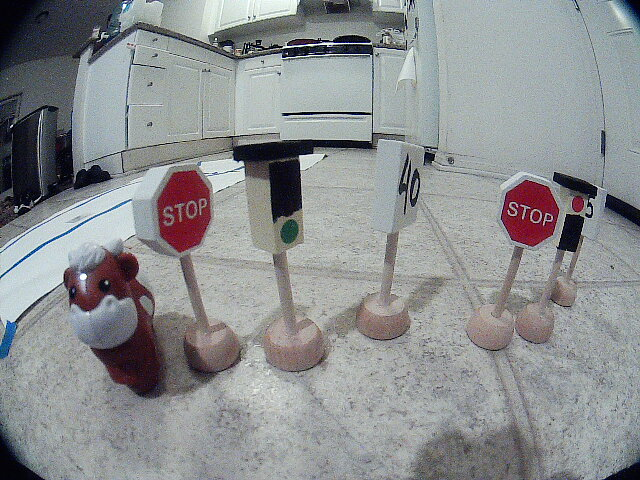Cow: (41, 242, 169, 409)
Green Traffic Light: (228, 123, 333, 273)
Red Traffic Light: (554, 162, 592, 290)
Speed Limit 40: (376, 137, 430, 244)
Stop Sign: (122, 158, 239, 264), (479, 168, 566, 257)
